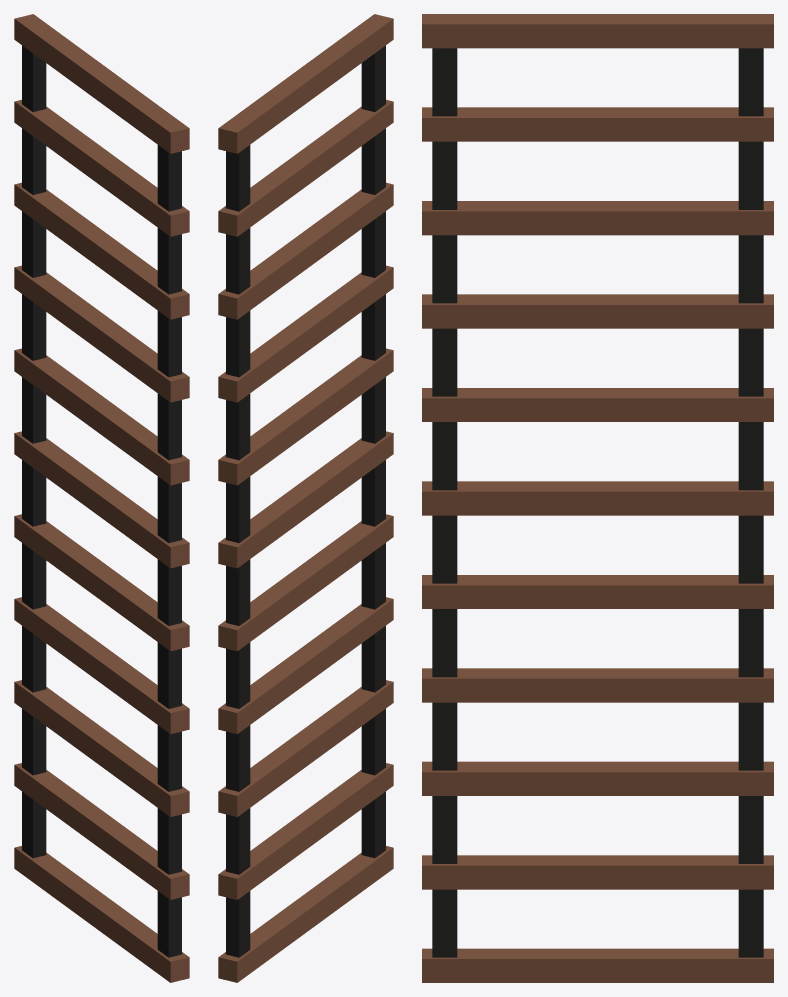
File: ladder.fbx
The picture shows the model from 3 angles, left to right: view 1: azimuth 30°, elevation 25°; view 2: azimuth 150°, elevation 25°; view 3: azimuth 270°, elevation 25°; orthographic projection. The views are drawn at different scales.
Parts seen in each view (by area): view 1: Cube; view 2: Cube; view 3: Cube.
Boxes of the visible parts, box(x1,y1,x2,y2) form: Cube: box(14, 14, 189, 982); Cube: box(218, 14, 393, 982); Cube: box(422, 14, 773, 982).
Size of the model in its own units: 7.72 by 331 by 110.
